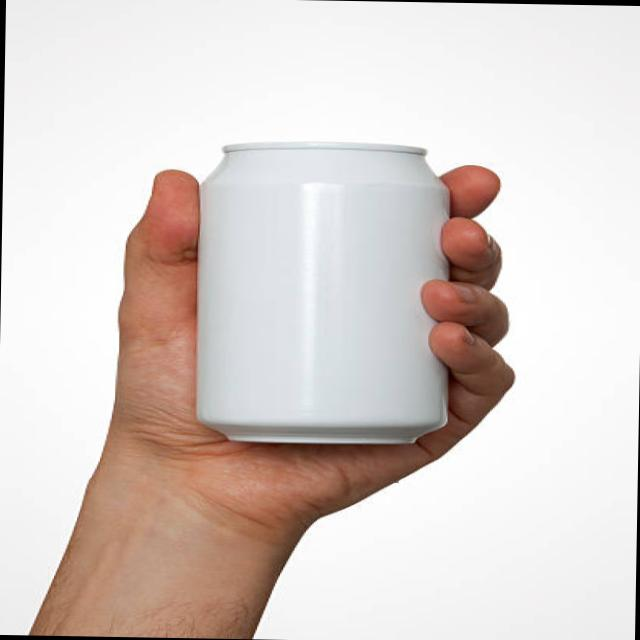soda_can: (113, 116, 500, 456)
